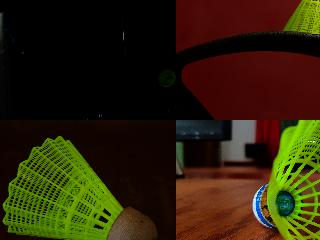shuttlecock: (2, 135, 158, 239), (251, 120, 319, 239), (283, 0, 319, 41), (157, 69, 175, 87)
